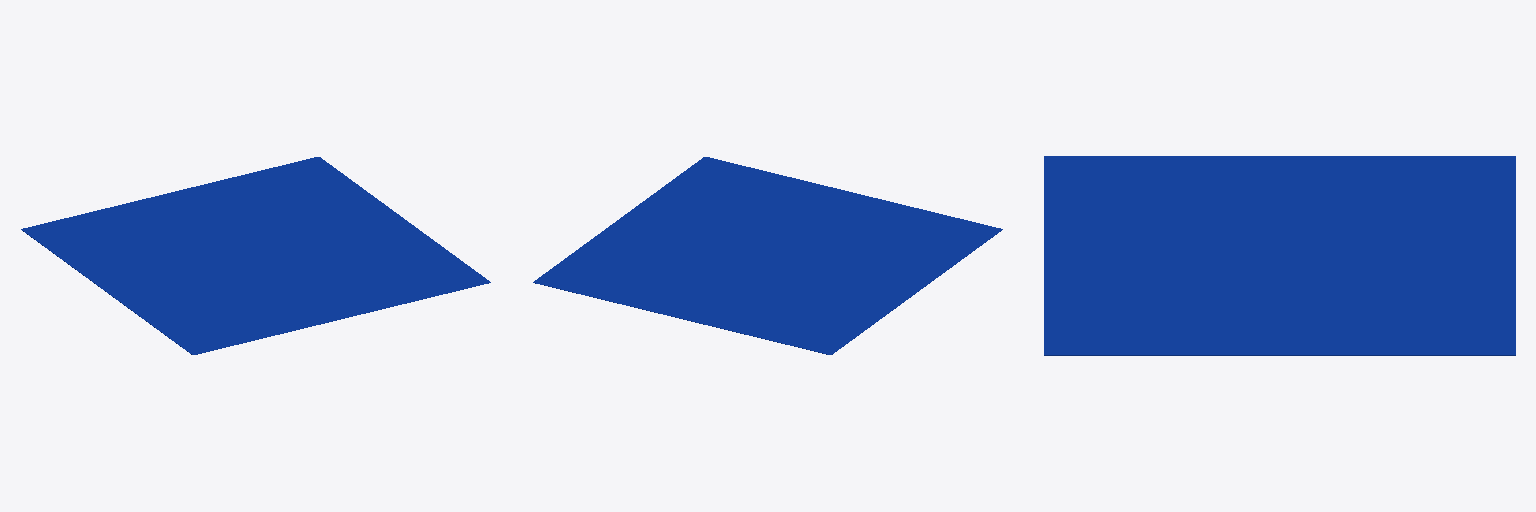
URDF robot description (simple_plate):
<robot name="simple_plate">
  <link name="plate">
    <inertial>
      <mass value="1.0" />
      <!-- center of mass (com) is defined w.r.t. link local coordinate system -->
      <!-- give a little y-offset to make the top precess -->
      <origin xyz="0 0 0" /> 
      <inertia  ixx="1.0" ixy="0.0"  ixz="0.0"  iyy="1.0"  iyz="0.0"  izz="1.0" />
    </inertial>
    <visual>
      <!-- visual origin is defined w.r.t. link local coordinate system -->
      <origin xyz="0 0 0" rpy="0 0 0" />
      <geometry>
        <box size="1.5 1.5 0.001" />
      </geometry>
      <material name="cuby">
        <color rgba="0.1 0.3 0.7 0.9"/>
      </material>
    </visual>
    <!-- <collision>
      <origin xyz="0 0 0" rpy="0 0 0" />
      <geometry>
        <box size="0.1 0.42 0.2" />
      </geometry>
    </collision> -->
  </link>
  <gazebo reference="plate">
    <mu1>10</mu1>
    <mu2>10</mu2>
    <material>Gazebo/Red</material>
    <turnGravityOff>false</turnGravityOff>
  </gazebo>
</robot>

--- Facts derived from the render (not from the file) ---
The picture shows the robot from 3 angles, left to right: view 1: azimuth 30°, elevation 25°; view 2: azimuth 150°, elevation 25°; view 3: azimuth 270°, elevation 25°; orthographic projection.
Model simple_plate with 1 links and 0 joints (none), rooted at plate, posed all joints at 0.
Visible links, largest first — view 1: plate; view 2: plate; view 3: plate.
Link boxes in pixels (box(x1,y1,x2,y2)): plate: box(21, 157, 490, 354); plate: box(533, 157, 1002, 354); plate: box(1044, 156, 1515, 355).
Bounding box of the posed robot: 1.5 × 1.5 × 0.001 m (x, y, z).
Geometry: primitives only (box / cylinder / sphere), no mesh files.
